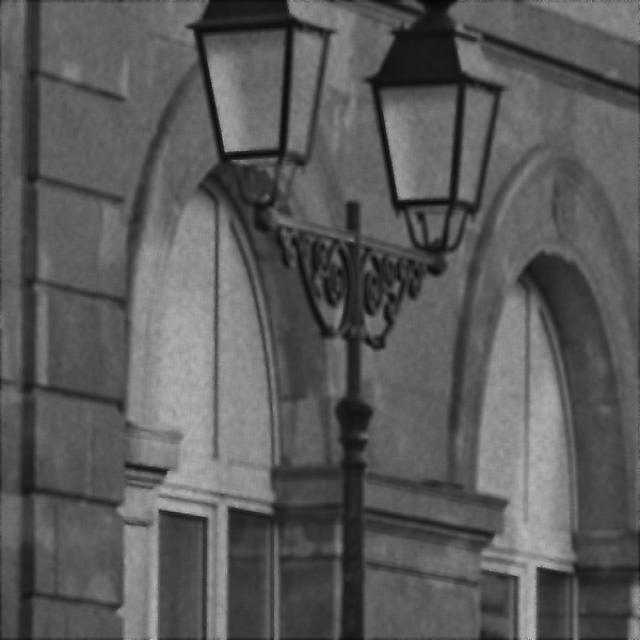lamp_bulb: (180, 9, 335, 174), (364, 58, 512, 228)
